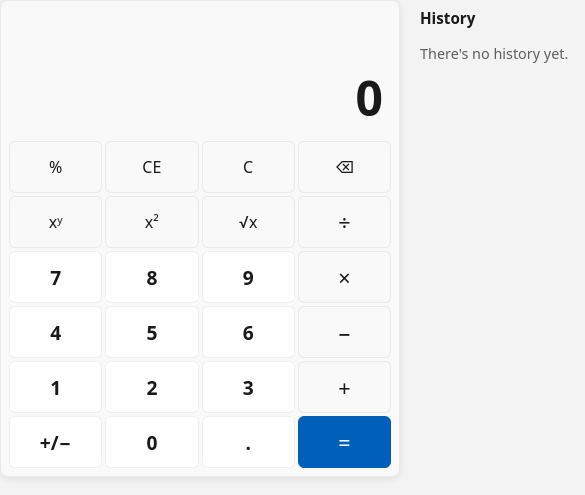
Scenario: Calculator › shows the backend explanation for a negative square root
Click the button "5": (152, 332) x1=105 y1=306 x2=199 y2=358
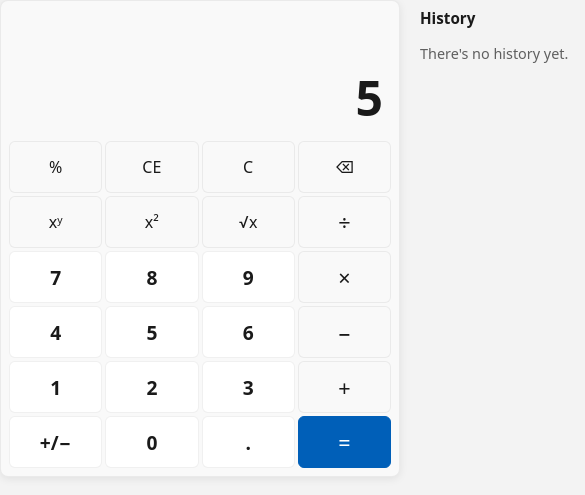
Click the button named "Negate": (56, 442) x1=9 y1=416 x2=102 y2=468
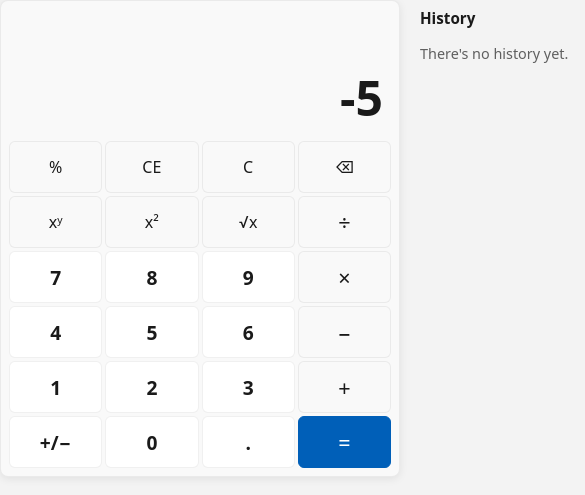
Click the button named "Square root": (248, 222) x1=202 y1=196 x2=295 y2=248
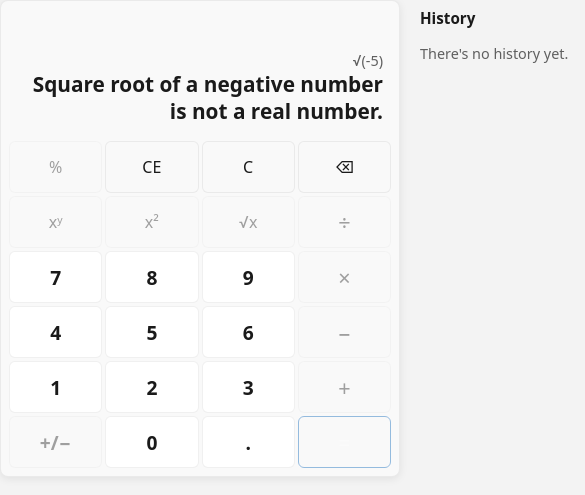
Expected: the text named "Display" reads "Square root of a negative number is not a real number.", x1=33 y1=70 x2=383 y2=125
Expected: the text with test id "expression" reads "√(-5)", x1=352 y1=51 x2=383 y2=70
